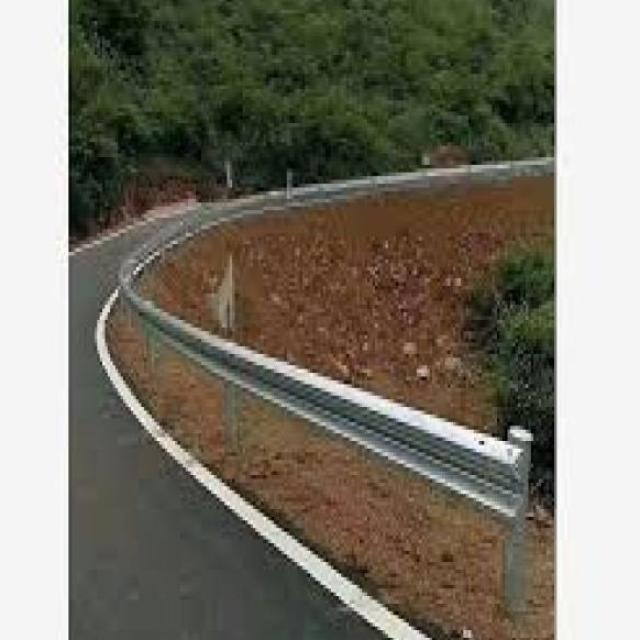Guard rail: (122, 239, 520, 518)
